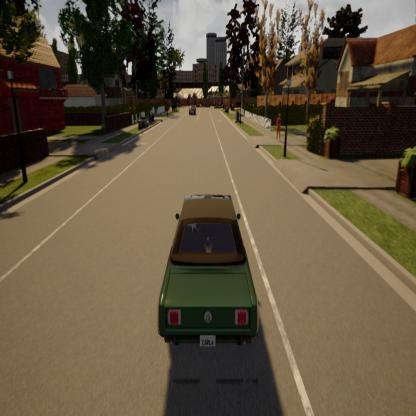Cars: (152, 186, 264, 362), (188, 101, 198, 119)
Pedestrian: (274, 109, 285, 143)
